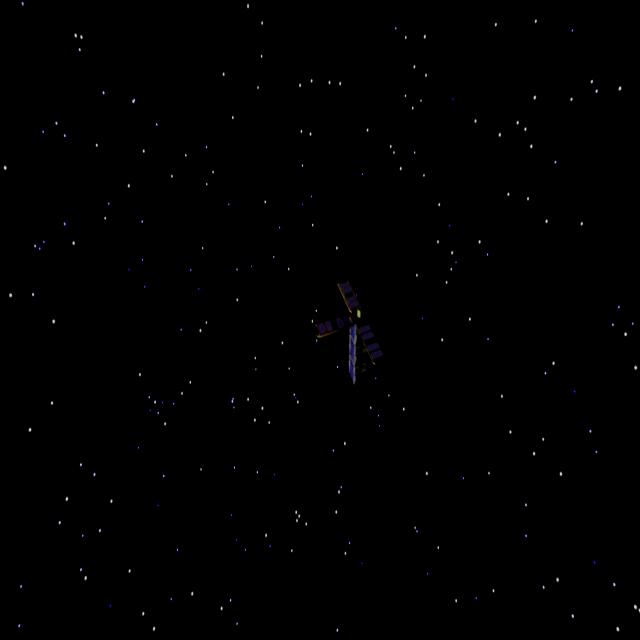satellite: (305, 271, 399, 391)
